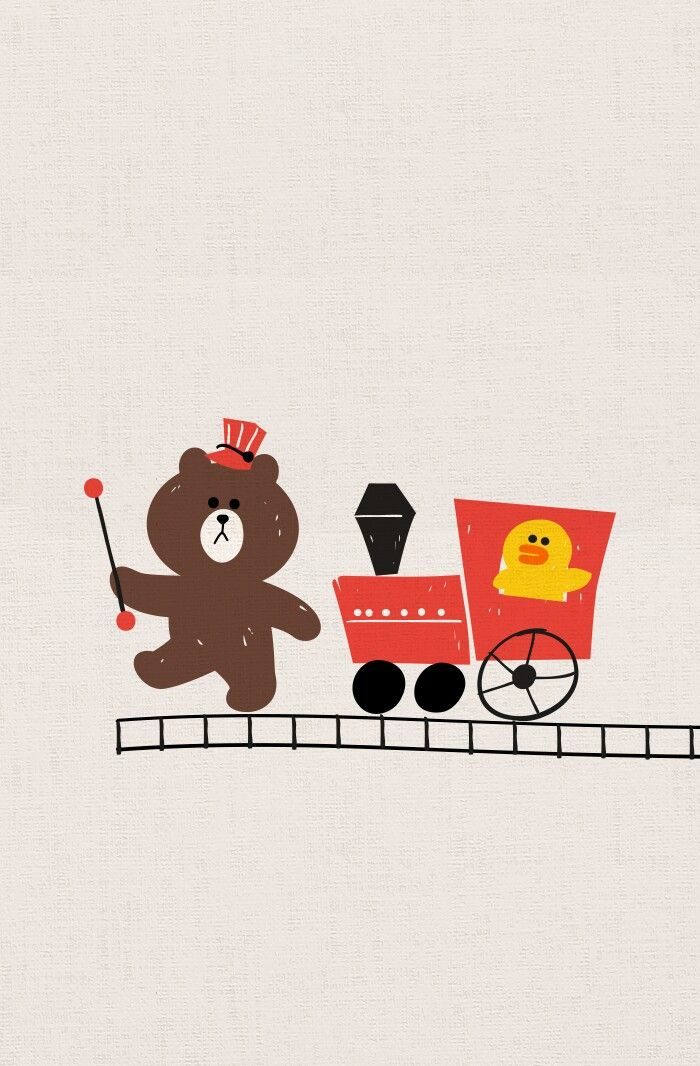line_brown: (138, 433, 305, 595)
